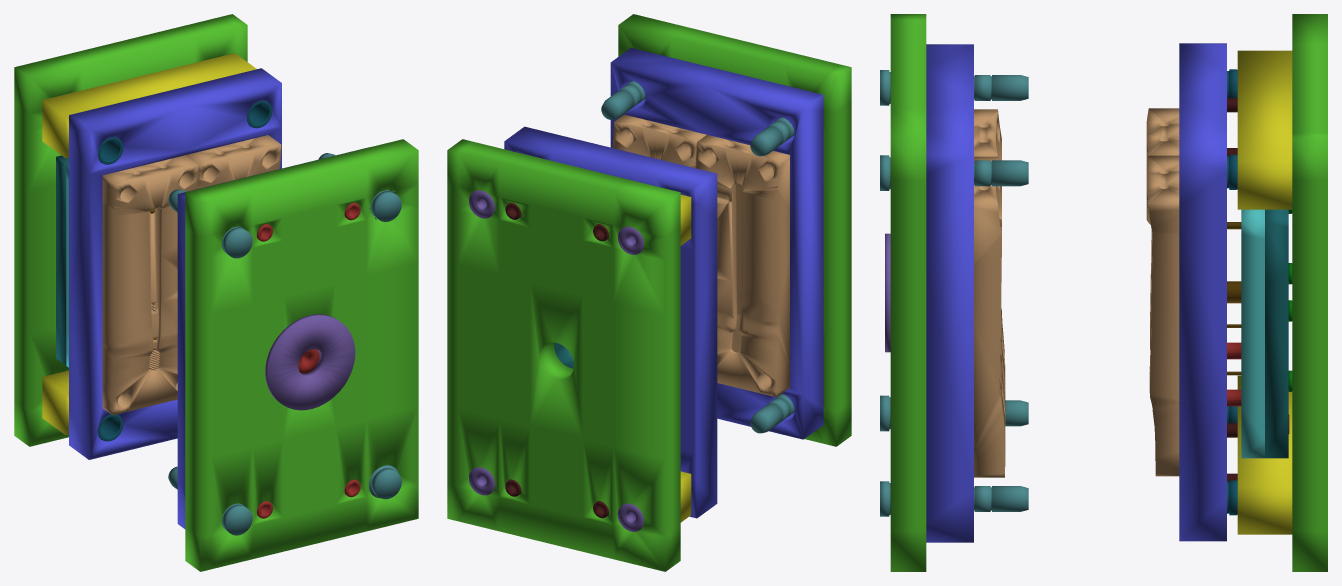
File: asset.glb
3 renders of one model, left to right at view 1: azimuth 30°, elevation 25°; view 2: azimuth 150°, elevation 25°; view 3: azimuth 270°, elevation 25°, orthographic. The views are drawn at different scales.
Visible parts, largest first — view 1: LAST ONE Assemblage finie moule réduite 2 emp - Semelle supé, LAST ONE Assemblage finie moule réduite 2 emp - Contre plaqu; view 2: LAST ONE Assemblage finie moule réduite 2 emp - Contre plaqu, LAST ONE Assemblage finie moule réduite 2 emp - Semelle supé; view 3: LAST ONE Assemblage finie moule réduite 2 emp - Contre plaqu, LAST ONE Assemblage finie moule réduite 2 emp - Semelle supé.
Boxes of the visible parts, x1=… form: LAST ONE Assemblage finie moule réduite 2 emp - Semelle supé: x1=168, y1=139, x2=418, y2=571; LAST ONE Assemblage finie moule réduite 2 emp - Contre plaqu: x1=14, y1=14, x2=281, y2=459; LAST ONE Assemblage finie moule réduite 2 emp - Contre plaqu: x1=447, y1=126, x2=717, y2=571; LAST ONE Assemblage finie moule réduite 2 emp - Semelle supé: x1=601, y1=14, x2=851, y2=446; LAST ONE Assemblage finie moule réduite 2 emp - Contre plaqu: x1=1146, y1=14, x2=1327, y2=571; LAST ONE Assemblage finie moule réduite 2 emp - Semelle supé: x1=880, y1=14, x2=1028, y2=571.
Bounding box in the file's own units: 5.87 × 9.47 × 8.87.
